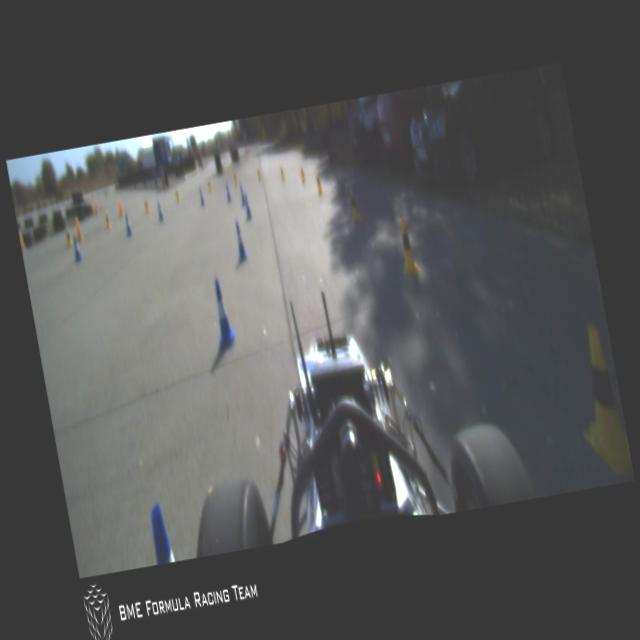blue_cone: (206, 276, 238, 352), (146, 504, 174, 564), (232, 221, 247, 262), (242, 192, 252, 220), (72, 235, 82, 262), (122, 212, 132, 237), (238, 183, 246, 206), (156, 200, 163, 222), (224, 183, 232, 202), (198, 186, 205, 206)
yellow_cone: (564, 320, 634, 487), (394, 215, 421, 280), (346, 186, 361, 224), (314, 168, 324, 194), (64, 226, 74, 248), (103, 212, 112, 230), (298, 162, 305, 182), (278, 162, 285, 182), (142, 196, 149, 215), (255, 165, 261, 182), (174, 185, 180, 202), (232, 170, 238, 186), (206, 177, 212, 193)
